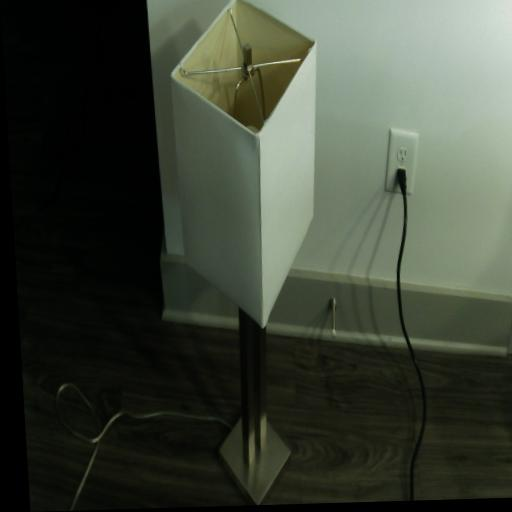lamp: (166, 0, 345, 507)
